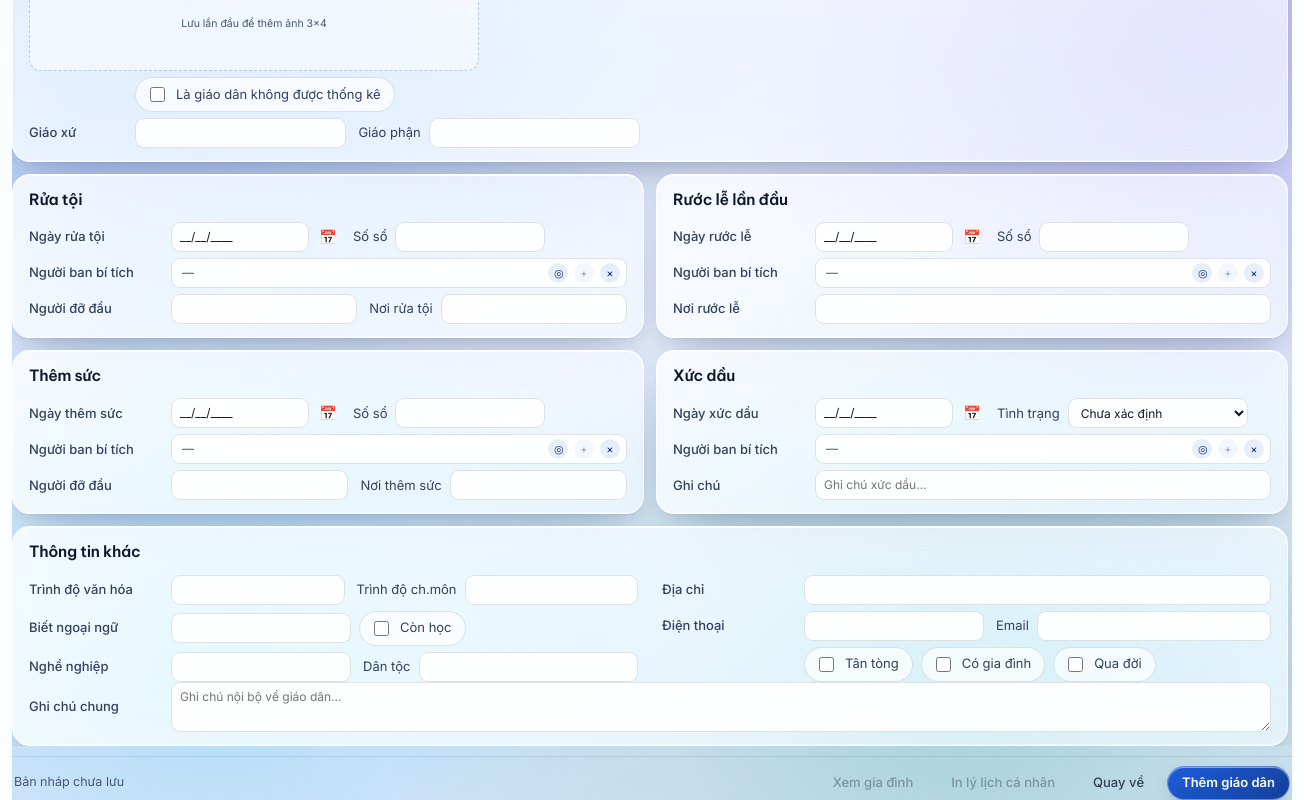
Test: GiaoDanDetailPage › tao moi that bai (400) hien thong bao loi tra ve tu may chu
The width and height of the screenshot is (1304, 800).
(page scrolled)
Click the button "Thêm giáo dân": (1229, 782) [1167,766,1290,799]
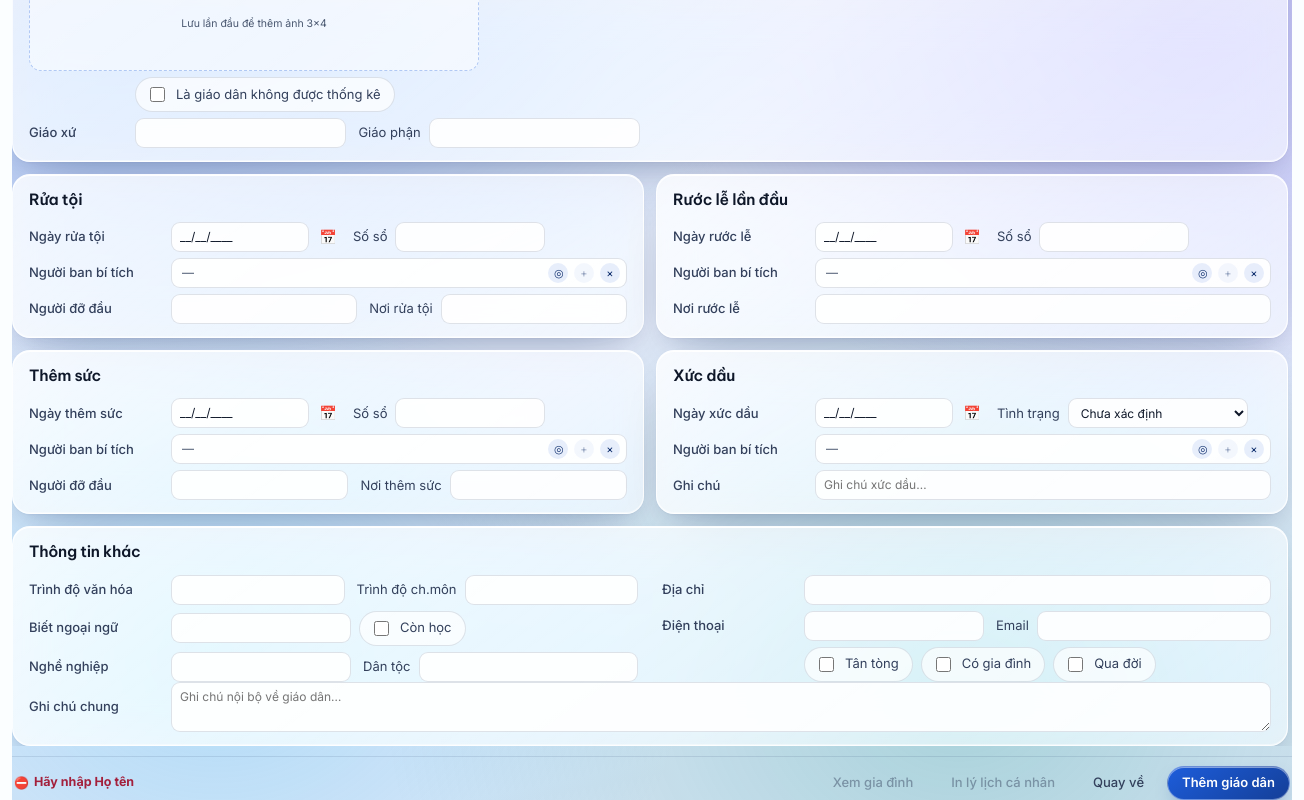
Check: the text "Hãy nhập Họ tên" is shown, box [34,774,134,789]
